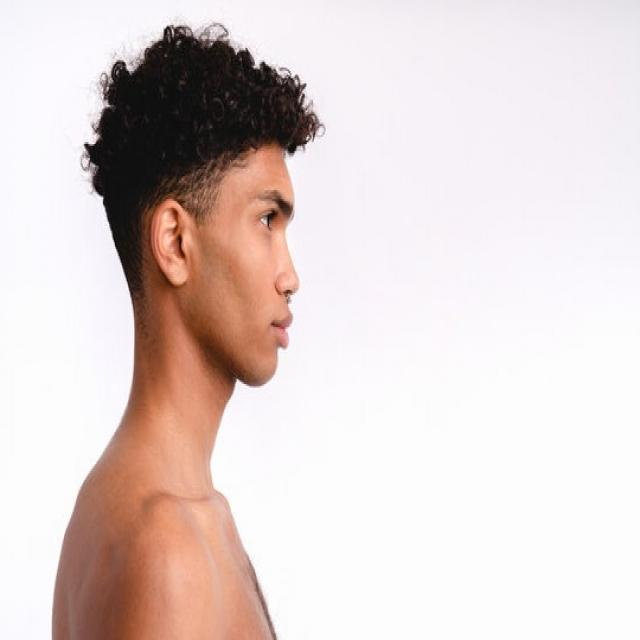Healthy: (140, 313, 214, 475)
